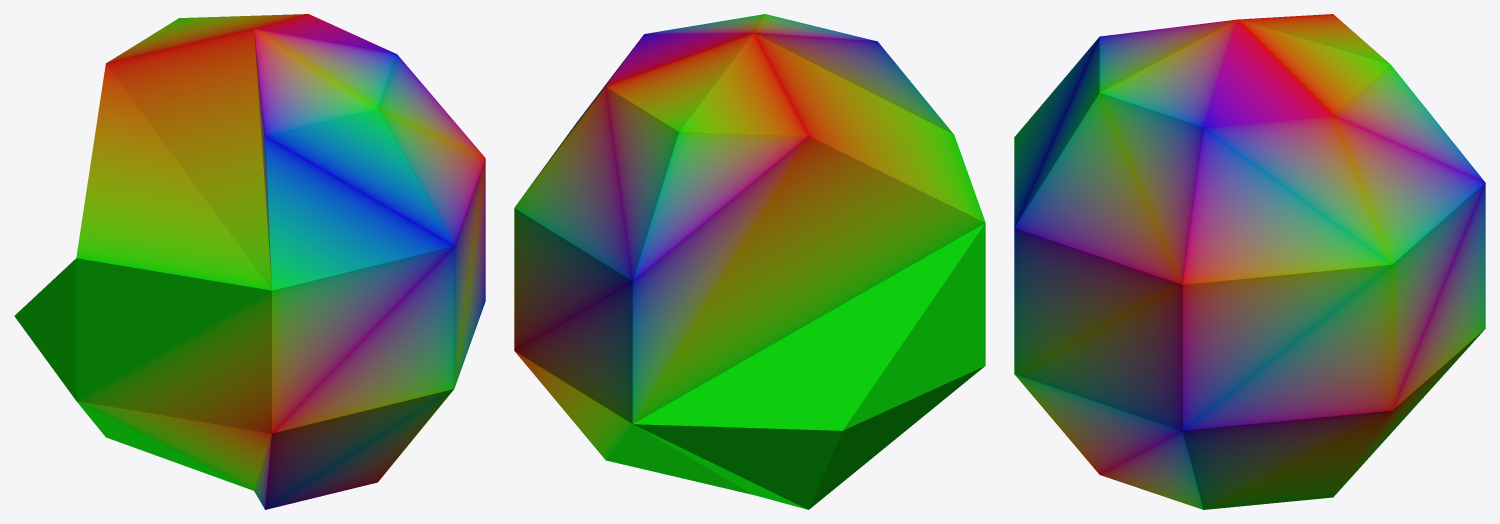
File: re_decimating_conquest_6_retriangulation.obj
The picture shows the model from 3 angles, left to right: view 1: azimuth 30°, elevation 25°; view 2: azimuth 150°, elevation 25°; view 3: azimuth 270°, elevation 25°; orthographic projection. The views are drawn at different scales.
Bounding box in the file's own units: 1.85 × 2 × 1.81.
